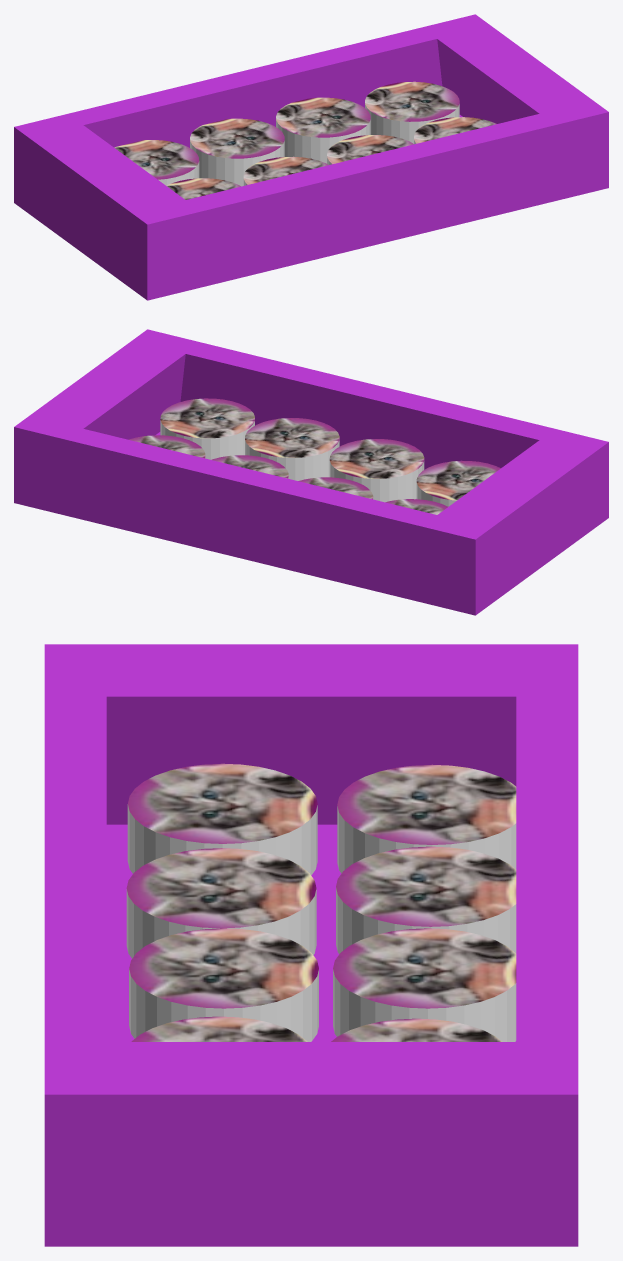
The model's file is cat food cans 1.fbx.
3 views of the same model, one above another, from view 1: azimuth 30°, elevation 25°; view 2: azimuth 150°, elevation 25°; view 3: azimuth 270°, elevation 25° (orthographic). The views are drawn at different scales.
Visible parts, largest first — view 1: Cube, Cylinder.006, Cylinder.005, Cylinder.004, Cylinder.007, Cylinder.001, Cylinder.003, Cylinder, Cylinder.002; view 2: Cube, Cylinder.003, Cylinder.001, Cylinder, Cylinder.002, Cylinder.005, Cylinder.004, Cylinder.006, Cylinder.007; view 3: Cube, Cylinder.001, Cylinder.005, Cylinder.002, Cylinder.003, Cylinder.006, Cylinder.007, Cylinder, Cylinder.004.
Boxes of the visible parts, left/top/right/bottom form: Cube: left=14, top=14, right=608, bottom=300; Cylinder.006: left=190, top=118, right=284, bottom=186; Cylinder.005: left=276, top=97, right=370, bottom=163; Cylinder.004: left=365, top=81, right=459, bottom=143; Cylinder.007: left=114, top=140, right=199, bottom=185; Cylinder.001: left=327, top=135, right=413, bottom=164; Cylinder.003: left=243, top=156, right=328, bottom=185; Cylinder: left=414, top=117, right=496, bottom=144; Cylinder.002: left=166, top=178, right=240, bottom=199; Cube: left=14, top=329, right=608, bottom=615; Cylinder.003: left=329, top=439, right=424, bottom=502; Cylinder.001: left=245, top=418, right=339, bottom=480; Cylinder: left=160, top=398, right=254, bottom=459; Cylinder.002: left=416, top=460, right=500, bottom=506; Cylinder.005: left=211, top=455, right=288, bottom=478; Cylinder.004: left=129, top=435, right=205, bottom=458; Cylinder.006: left=298, top=477, right=373, bottom=499; Cylinder.007: left=385, top=499, right=447, bottom=514; Cube: left=44, top=644, right=578, bottom=1246; Cylinder.001: left=129, top=928, right=318, bottom=1041; Cylinder.005: left=333, top=928, right=516, bottom=1041; Cylinder.002: left=127, top=763, right=317, bottom=875; Cylinder.003: left=126, top=848, right=316, bottom=958; Cylinder.006: left=336, top=846, right=516, bottom=953; Cylinder.007: left=337, top=764, right=516, bottom=873; Cylinder: left=131, top=1016, right=307, bottom=1041; Cylinder.004: left=331, top=1018, right=501, bottom=1041.
Bounding box in the file's own units: 213 × 33.5 × 107.
2 materials, 1 textured.
